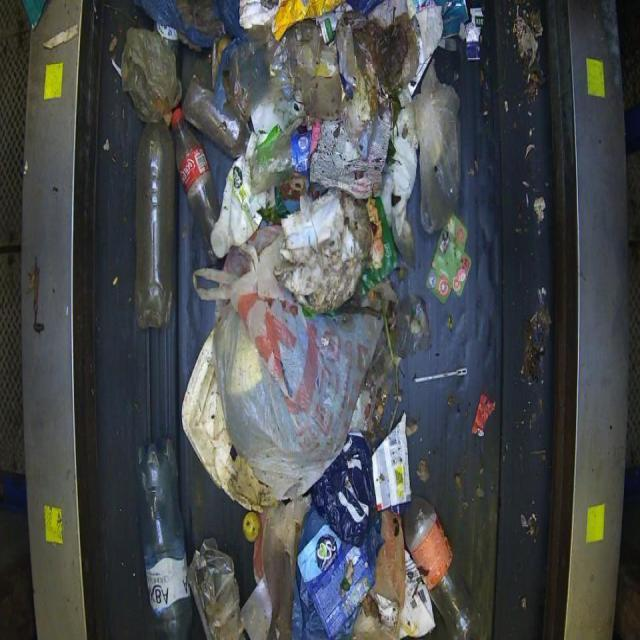other-trash: (106, 0, 491, 638)
